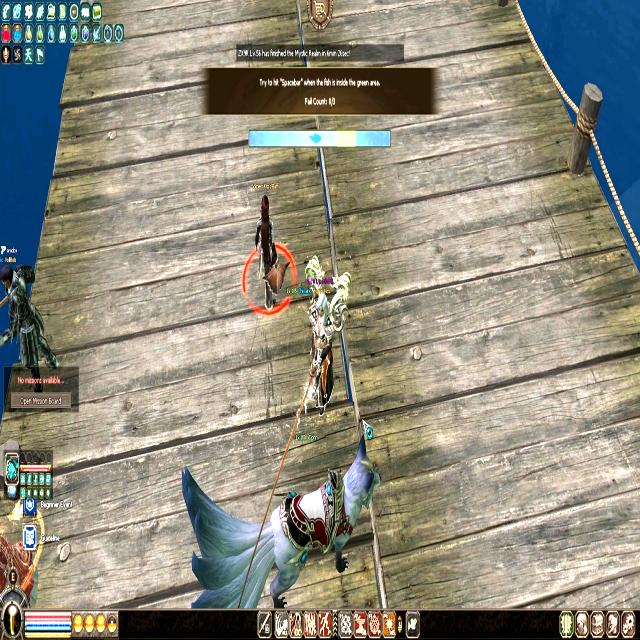fishes: (309, 132, 321, 144)
